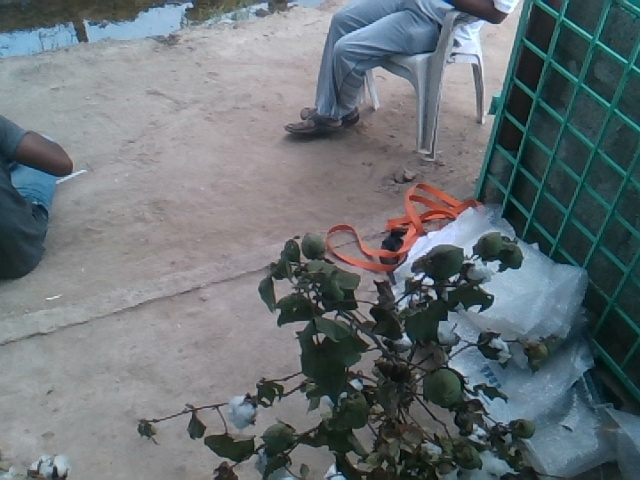cotton: (227, 395, 255, 426), (461, 257, 492, 284)
